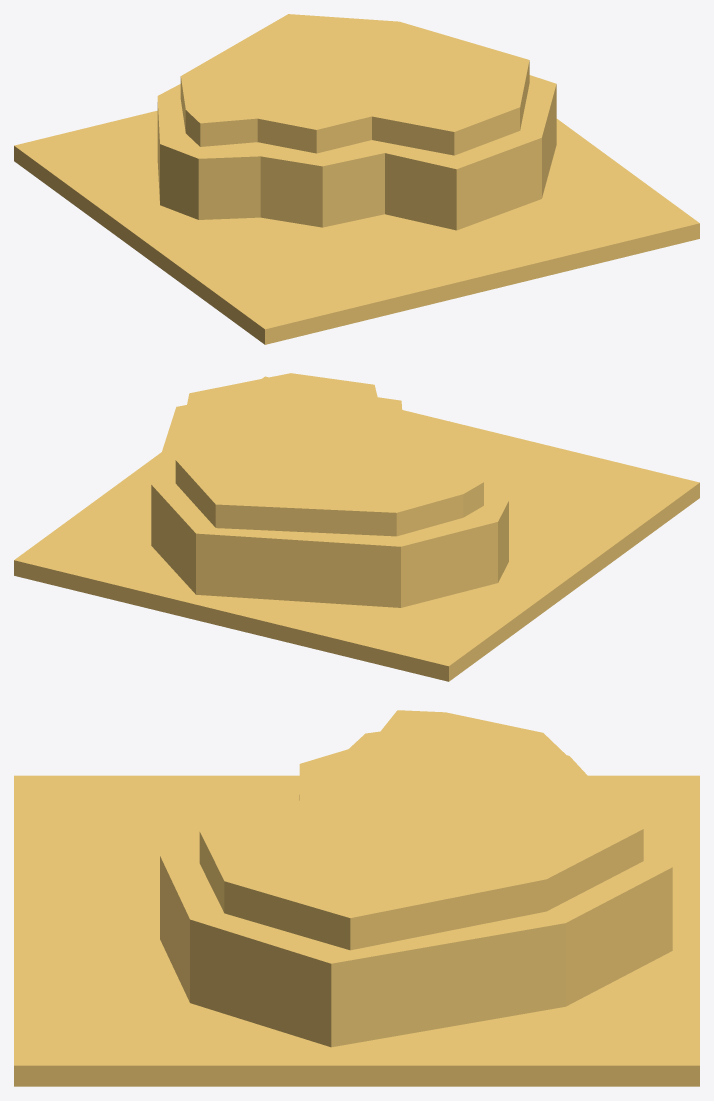
File: level4ground.fbx
3 renders of one model, top to bottom at view 1: azimuth 30°, elevation 25°; view 2: azimuth 150°, elevation 25°; view 3: azimuth 270°, elevation 25°, orthographic. The views are drawn at different scales.
Visible parts, largest first — view 1: Ground; view 2: Ground; view 3: Ground.
Boxes of the visible parts, x1=… form: Ground: x1=14, y1=14, x2=699, y2=344; Ground: x1=14, y1=373, x2=699, y2=681; Ground: x1=14, y1=710, x2=699, y2=1086.
Size of the model in its own units: 14 by 3.09 by 14.
Materials: 1 (1 with a texture image).
